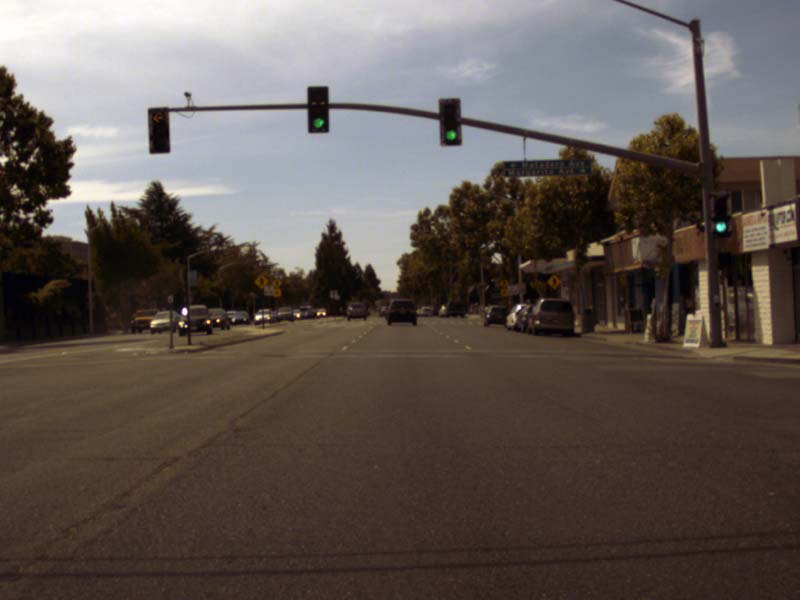Green: (307, 85, 328, 132), (439, 99, 459, 146), (714, 195, 725, 234)
Red: (147, 107, 168, 153)
